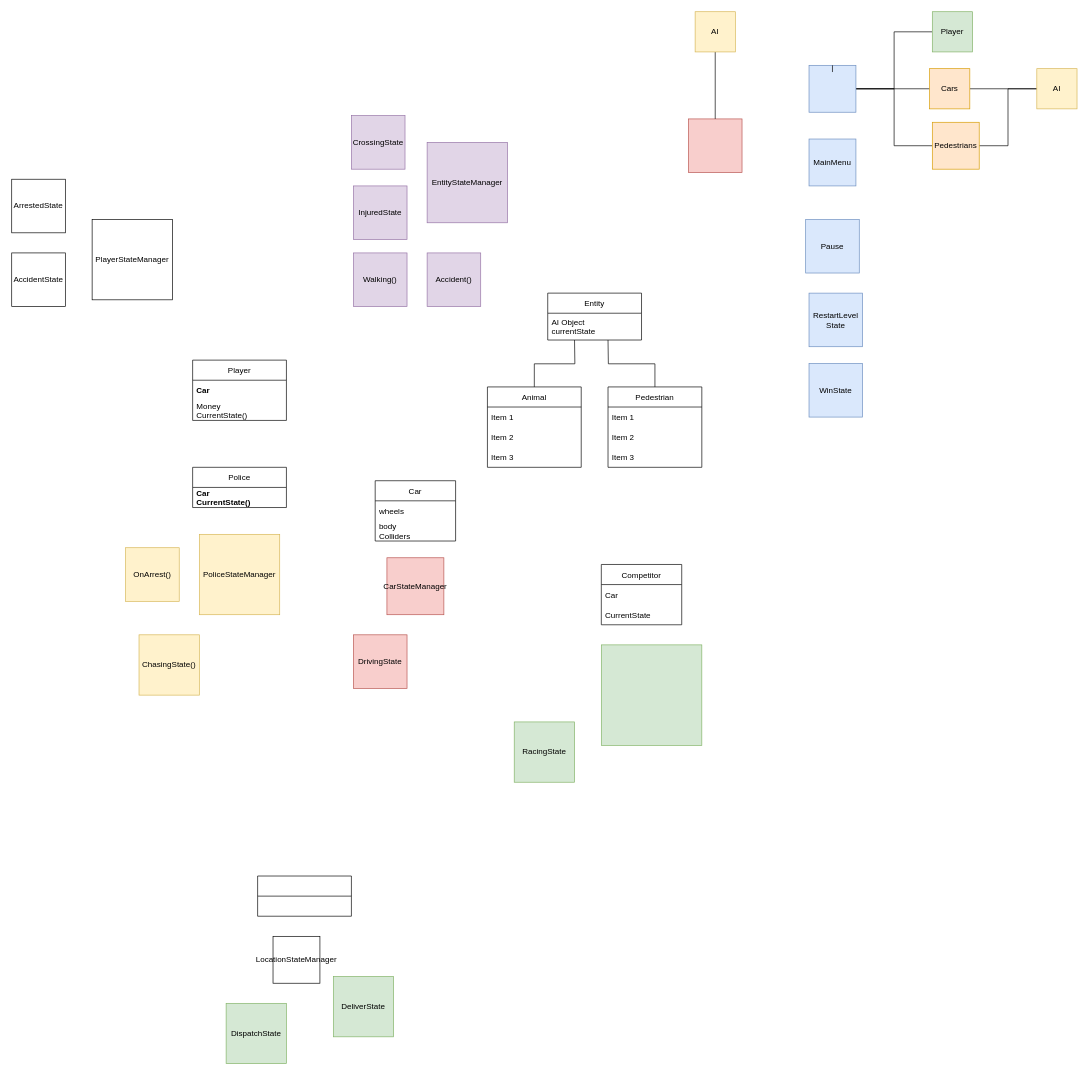
The diagram is 1089 pixels wide and 1075 high, and some of its shapes have lost their labels. The centre of each missing label's shape, as x and y in pixels:
CompetitorStateManager: the point at 651,694
GameManager: the point at 715,145
GameState: the point at 832,88
Location: the point at 304,895
